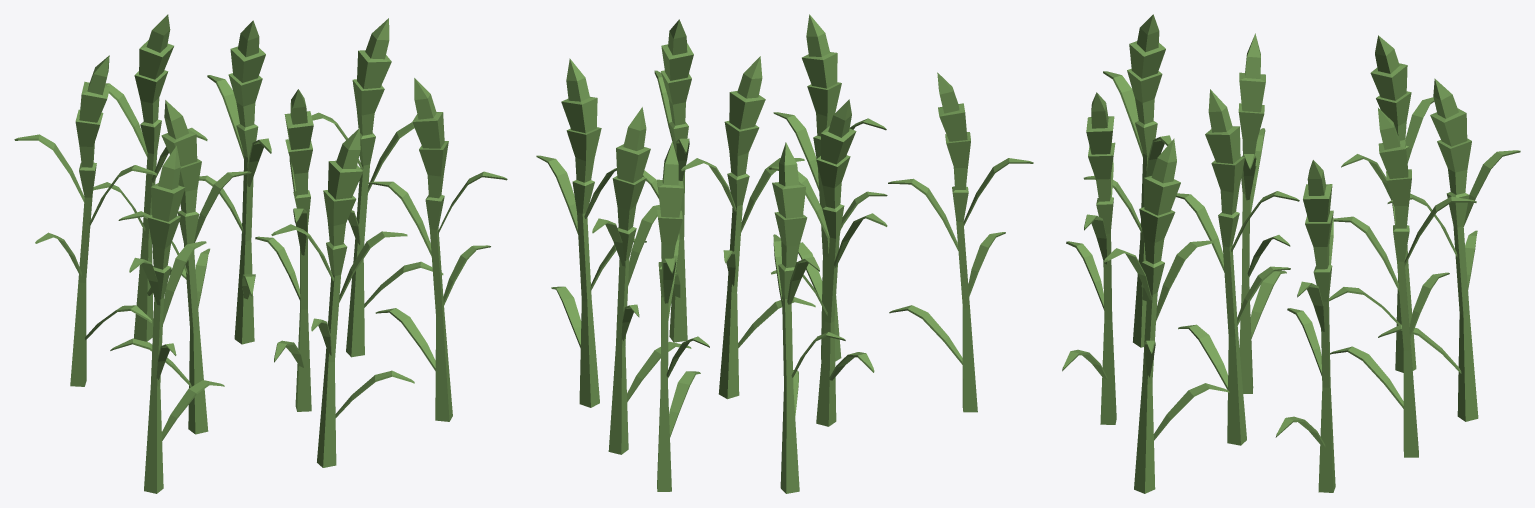
File: Wheat_3.glb
3 renders of one model, left to right at view 1: azimuth 30°, elevation 25°; view 2: azimuth 150°, elevation 25°; view 3: azimuth 270°, elevation 25°, orthographic. The views are drawn at different scales.
Parts seen in each view (by area): view 1: Wheat_3.007, Wheat_3.005, Wheat_3.006, Wheat_3.008, Wheat_3.004, Wheat_3.001, Wheat_3.002, Wheat_3.003, Wheat_3; view 2: Wheat_3.004, Wheat_3.008, Wheat_3, Wheat_3.007, Wheat_3.001, Wheat_3.002, Wheat_3.003, Wheat_3.006, Wheat_3.005; view 3: Wheat_3, Wheat_3.005, Wheat_3.003, Wheat_3.008, Wheat_3.004, Wheat_3.006, Wheat_3.001, Wheat_3.007, Wheat_3.002.
Part boxes in pixels (x1,y1,x2,y2): Wheat_3.007: [129, 145, 224, 493]; Wheat_3.005: [368, 78, 507, 421]; Wheat_3.006: [271, 128, 414, 467]; Wheat_3.008: [199, 20, 271, 344]; Wheat_3.004: [311, 18, 443, 357]; Wheat_3.001: [110, 100, 251, 434]; Wheat_3.002: [14, 55, 156, 386]; Wheat_3.003: [93, 14, 207, 341]; Wheat_3: [255, 89, 313, 411]; Wheat_3.004: [536, 58, 646, 407]; Wheat_3.008: [592, 107, 691, 454]; Wheat_3: [681, 56, 815, 399]; Wheat_3.007: [888, 72, 1033, 412]; Wheat_3.001: [769, 99, 887, 426]; Wheat_3.002: [772, 142, 845, 493]; Wheat_3.003: [657, 141, 709, 491]; Wheat_3.006: [773, 14, 887, 361]; Wheat_3.005: [643, 19, 693, 342]; Wheat_3: [1176, 89, 1299, 445]; Wheat_3.005: [1104, 138, 1229, 493]; Wheat_3.003: [1378, 78, 1520, 421]; Wheat_3.008: [1330, 108, 1476, 457]; Wheat_3.004: [1275, 160, 1335, 492]; Wheat_3.006: [1062, 92, 1116, 424]; Wheat_3.001: [1238, 33, 1290, 393]; Wheat_3.007: [1083, 14, 1171, 347]; Wheat_3.002: [1329, 35, 1434, 372].
Bounding box in the file's own units: 0.8765 × 0.6943 × 0.8406.
